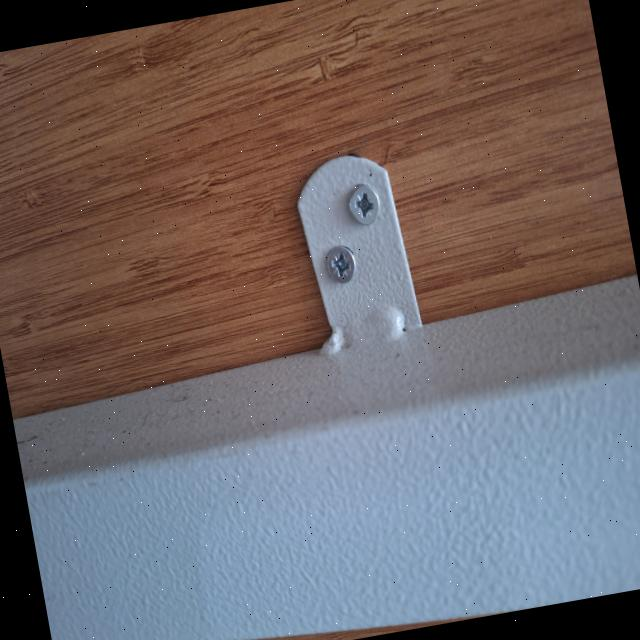Pozidriv: (345, 182, 384, 229), (323, 243, 357, 286)
